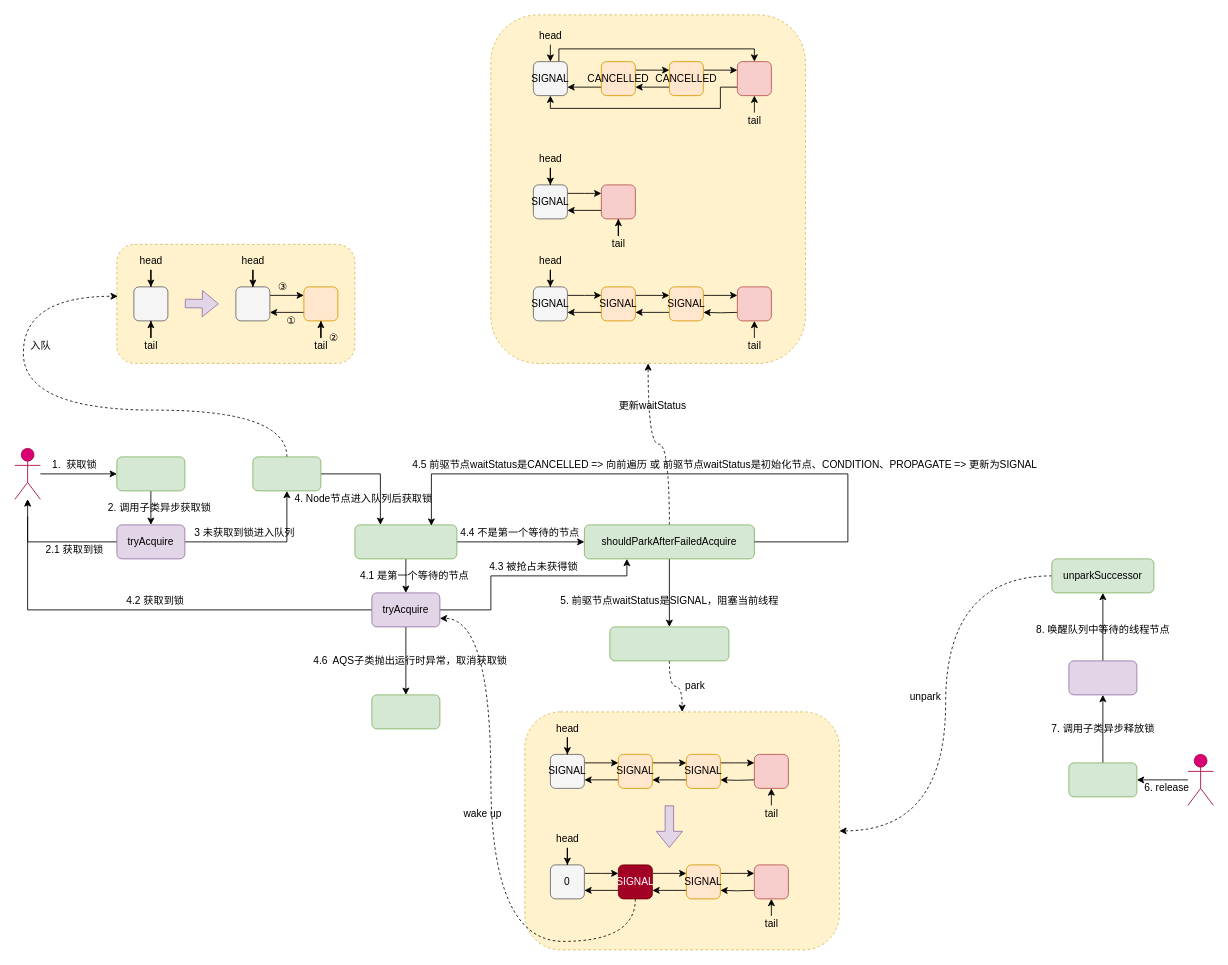
The diagram is 1228 pixels wide and 965 high, and some of its shapes have lost their labels. Here are the shapes that lost their labels. From the top down, the centre of each, then its label:
At (x=150, y=473): "acquire".
At (x=286, y=473): "addWaiter".
At (x=405, y=541): "acquireQueued".
At (x=669, y=643): "parkAndCheckInterrupt".
At (x=1102, y=677): "tryRelease".
At (x=405, y=711): "cancelAcquire".
At (x=1102, y=779): "release".
